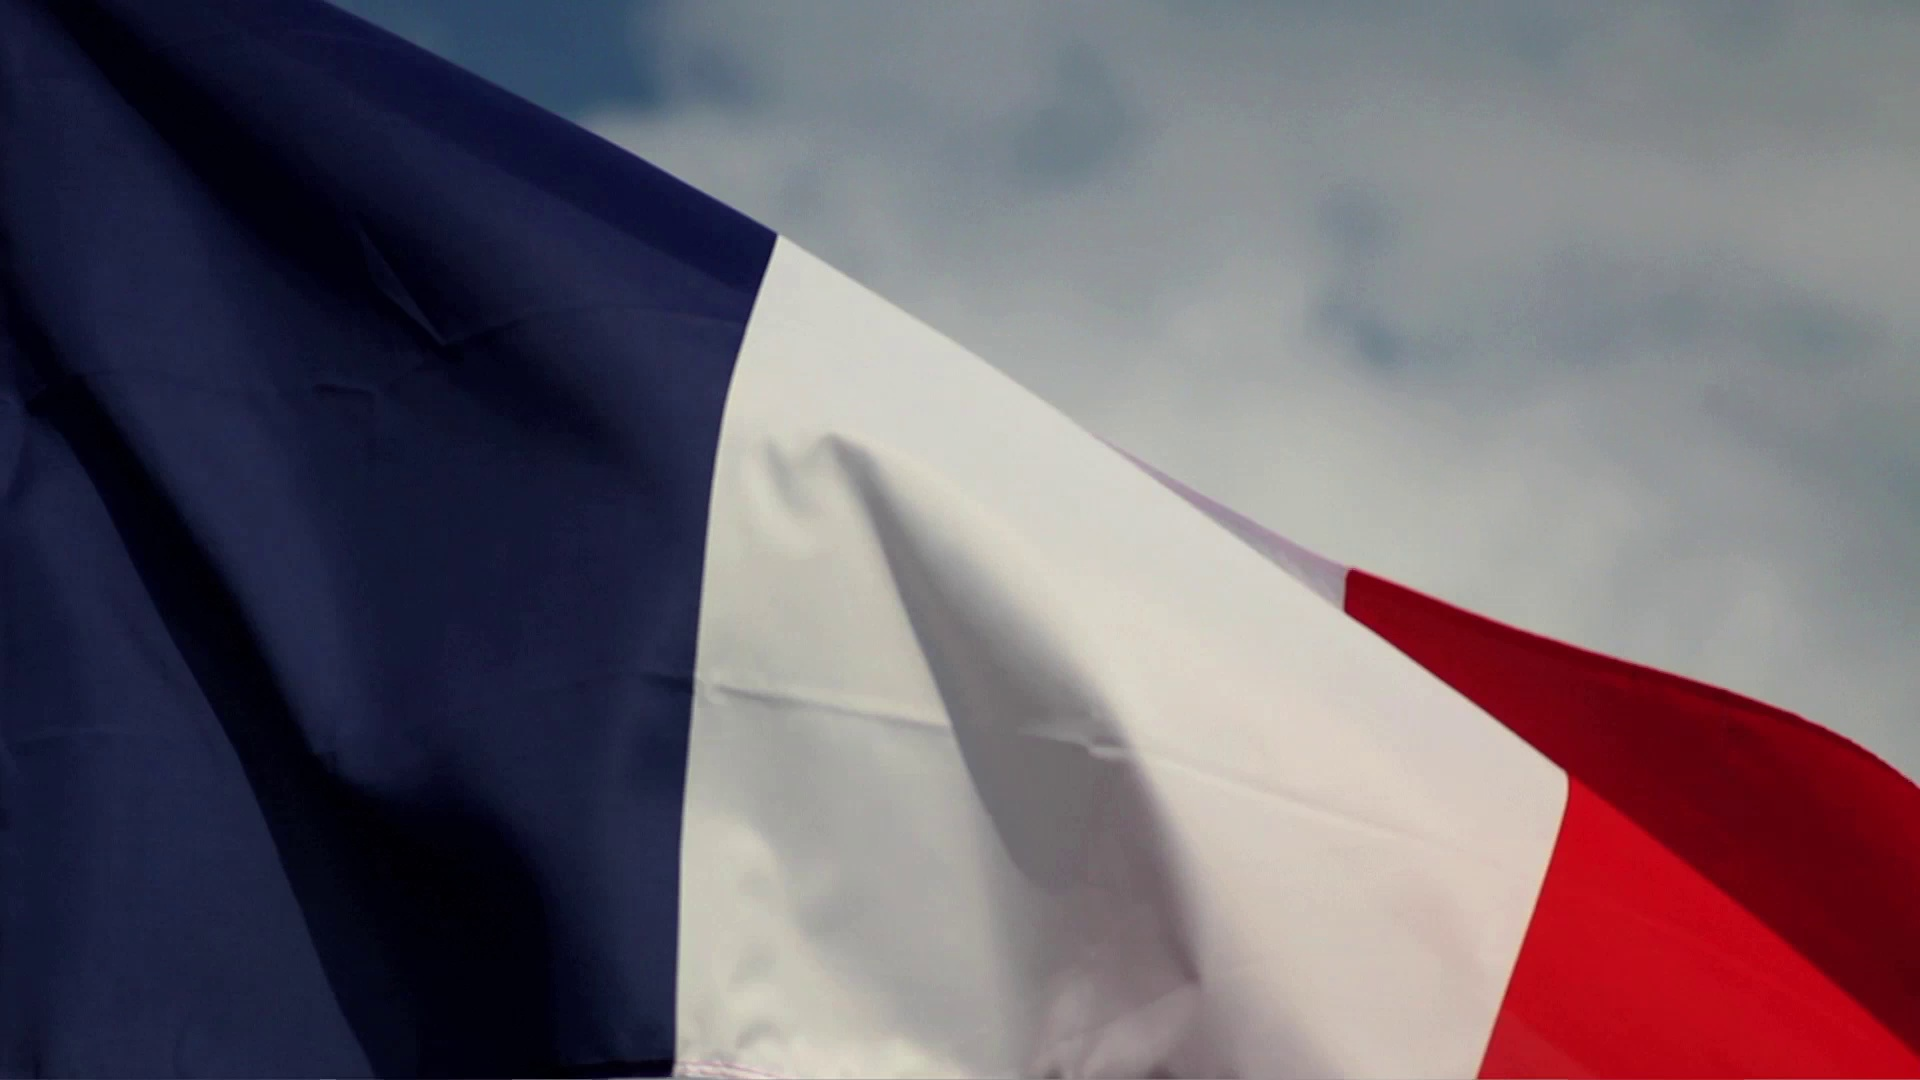French Flag: (1, 1, 1918, 1080)
